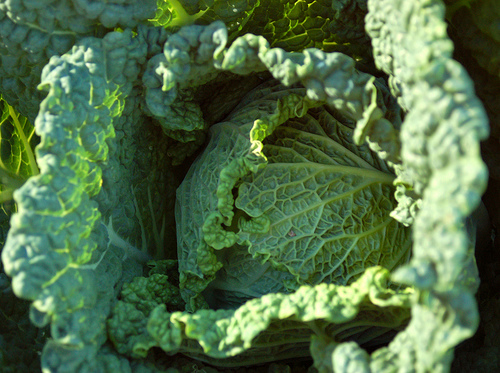cabbage: (0, 0, 488, 372)
